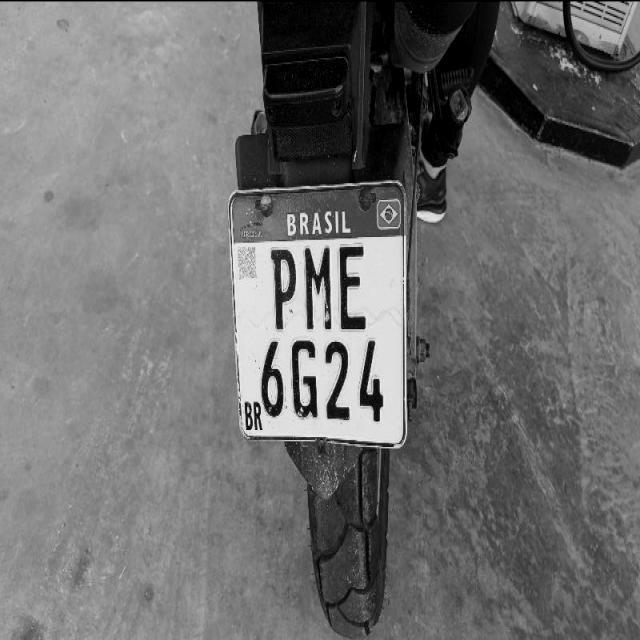placa_mercosul: (231, 181, 409, 448)
